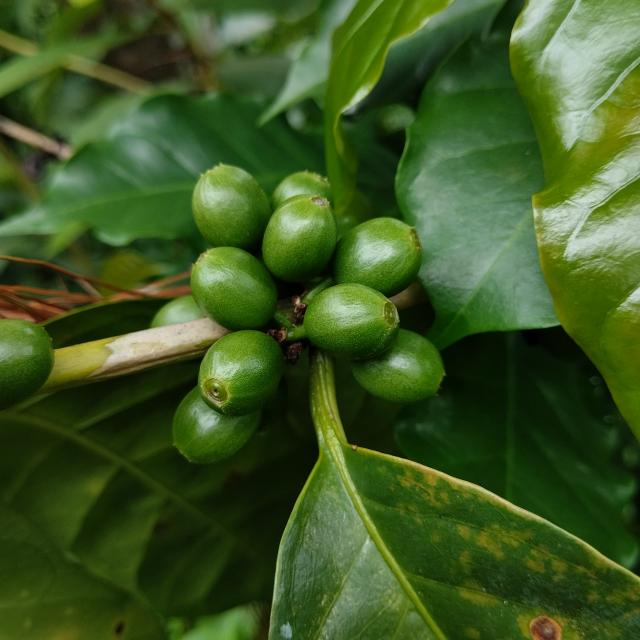green: (198, 330, 285, 417), (190, 246, 278, 331), (303, 283, 400, 360), (332, 217, 422, 297), (351, 329, 446, 404), (191, 163, 271, 250), (172, 387, 261, 464), (262, 194, 337, 282), (0, 319, 54, 410), (271, 170, 334, 210), (150, 295, 204, 328)
